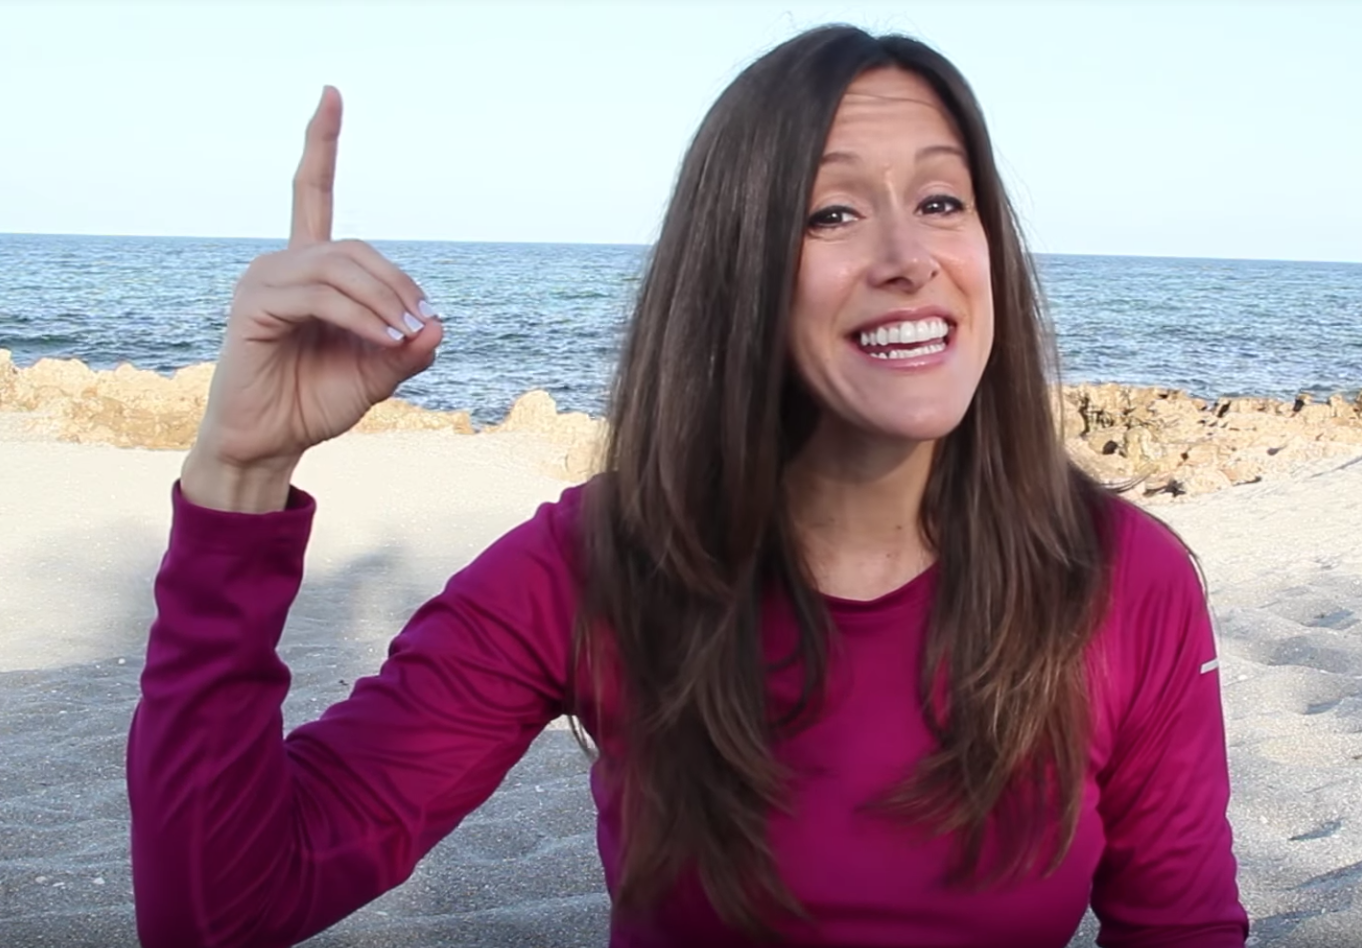d: (193, 76, 447, 520)
